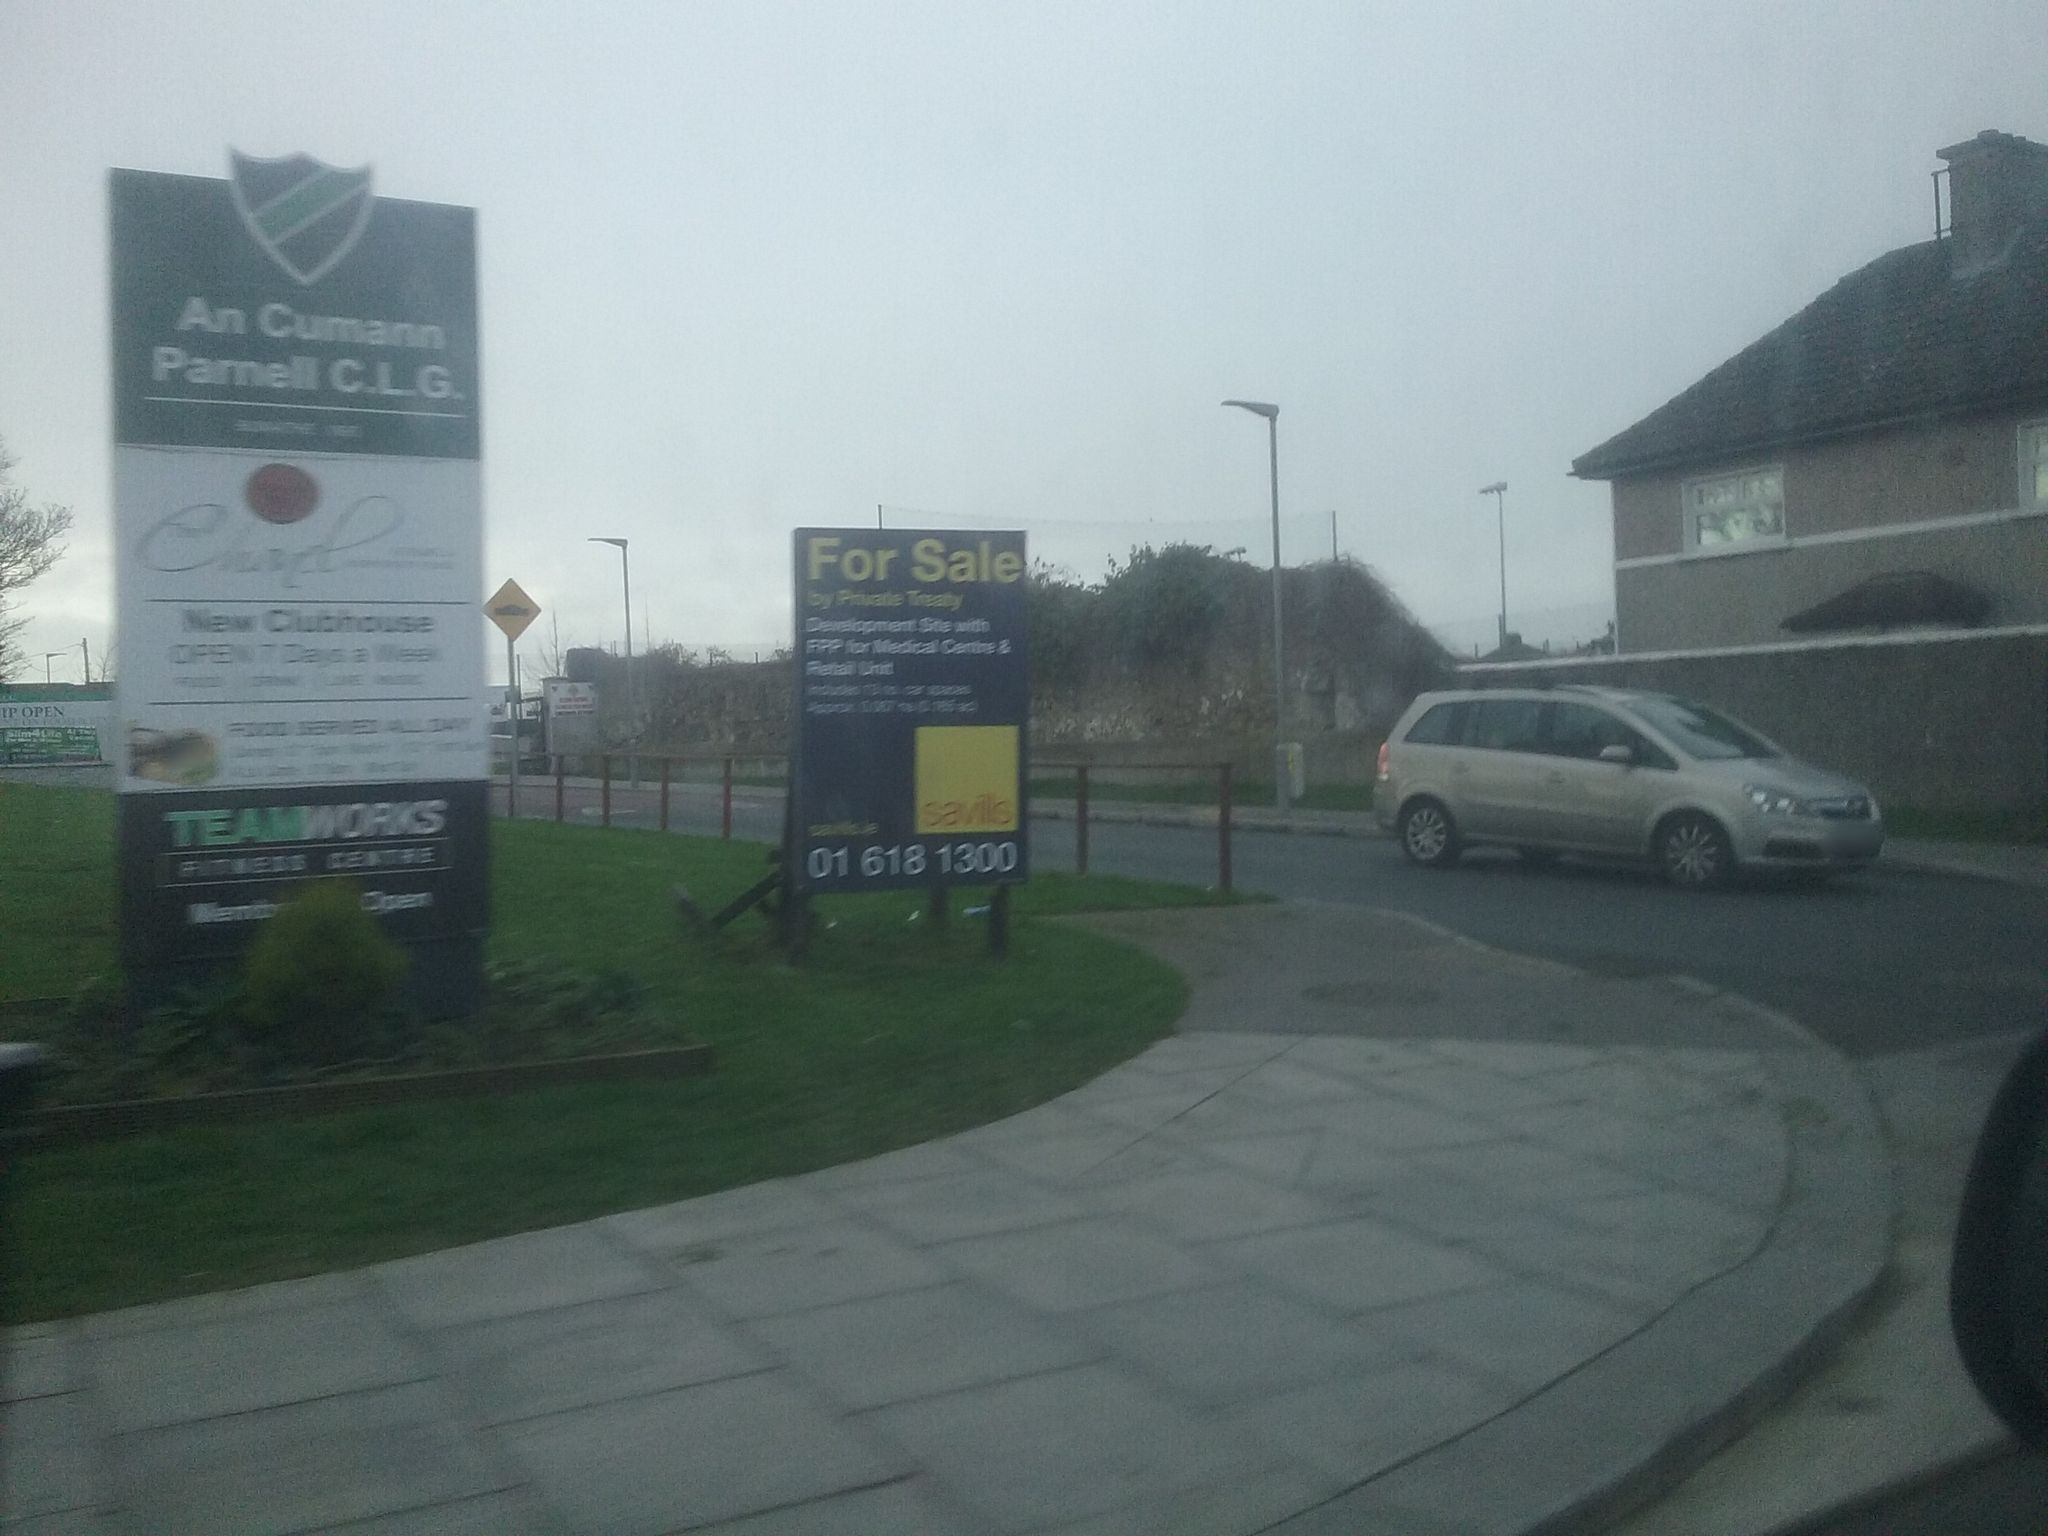property sign: (787, 490, 1043, 925)
